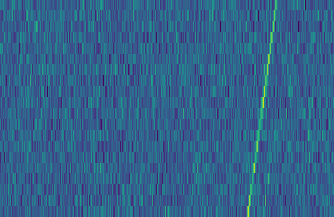signal: (245, 0, 284, 217)
